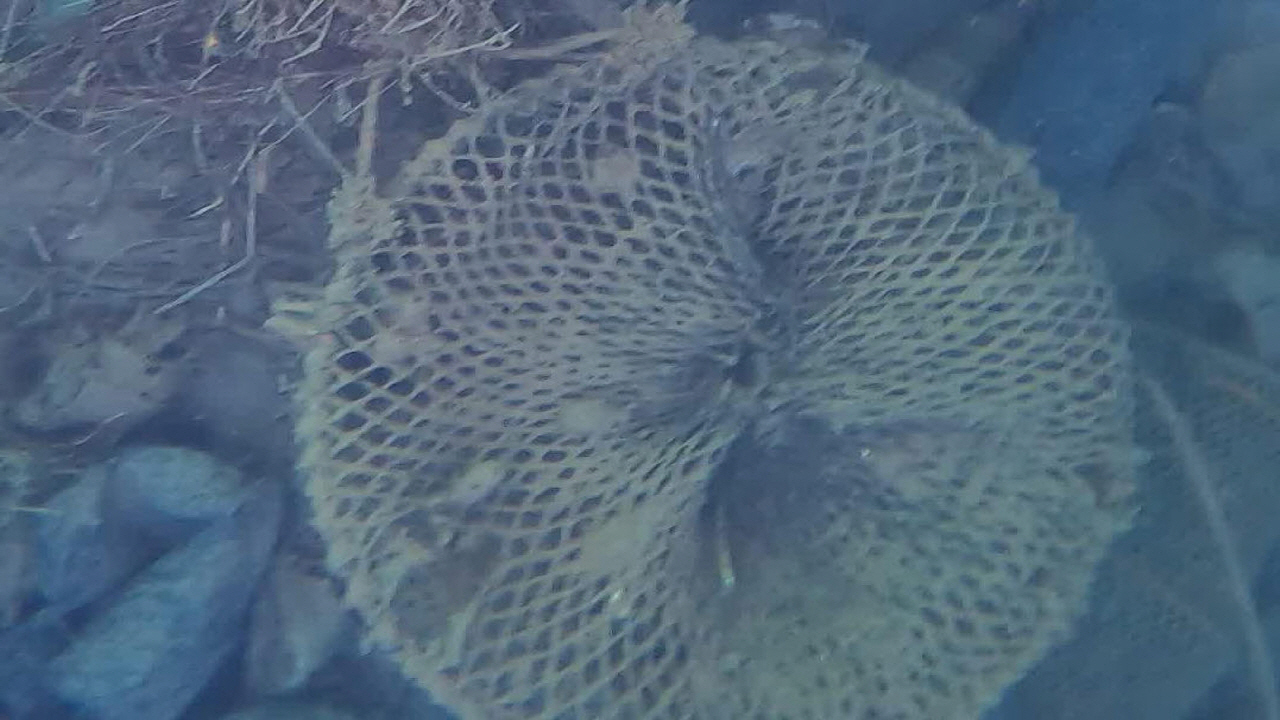circular fish trap: (293, 35, 1131, 720)
